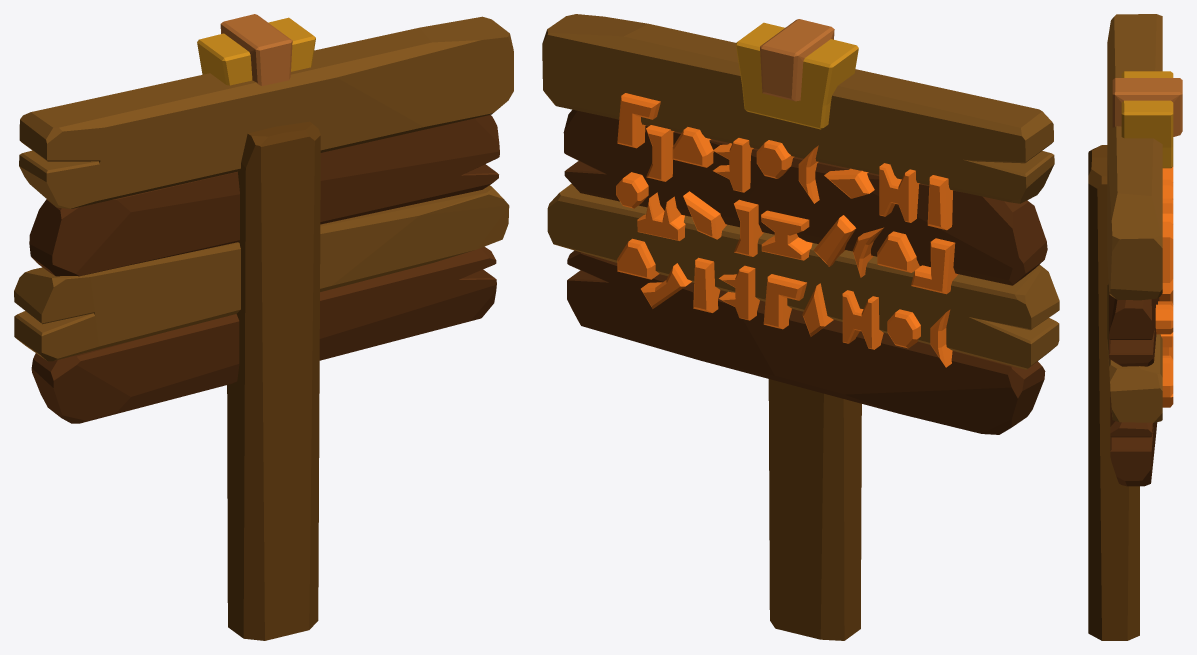
File: SignPost01.fbx
3 renders of one model, left to right at view 1: azimuth 30°, elevation 25°; view 2: azimuth 150°, elevation 25°; view 3: azimuth 270°, elevation 25°, orthographic. The views are drawn at different scales.
Parts seen in each view (by area): view 1: LOD0; view 2: LOD0; view 3: LOD0.
Part boxes in pixels (x1=…): LOD0: x1=14, y1=14, x2=513, y2=640; LOD0: x1=542, y1=14, x2=1059, y2=640; LOD0: x1=1088, y1=14, x2=1182, y2=640.
Size of what is drawn, in the model's own units: 149 by 27.69 by 175.
